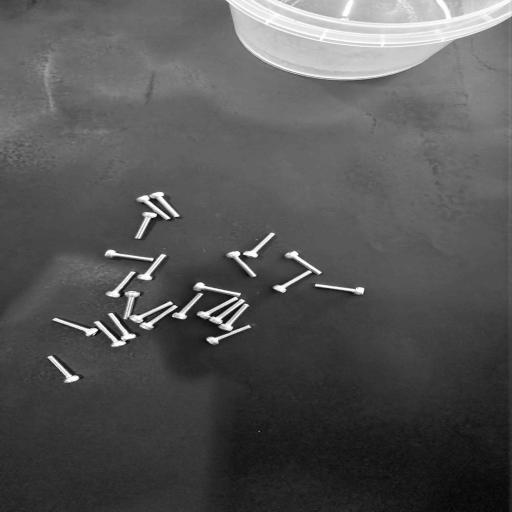Bolt: (209, 299, 245, 325), (140, 305, 177, 330), (130, 302, 173, 323), (197, 297, 237, 319), (48, 356, 80, 383), (284, 251, 321, 274), (206, 325, 250, 344), (149, 192, 181, 218), (273, 271, 312, 292), (136, 196, 170, 220), (219, 304, 249, 331), (95, 321, 126, 347), (53, 318, 97, 336), (226, 251, 256, 277), (173, 293, 203, 319), (106, 271, 136, 297), (244, 233, 275, 258), (108, 313, 136, 340), (138, 254, 166, 280), (194, 282, 241, 296), (135, 212, 157, 239), (105, 250, 154, 262), (315, 284, 364, 295), (123, 291, 140, 319)
